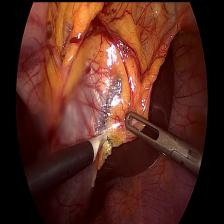Grasper: (123, 110, 189, 166)
Hook: (88, 127, 113, 162)
